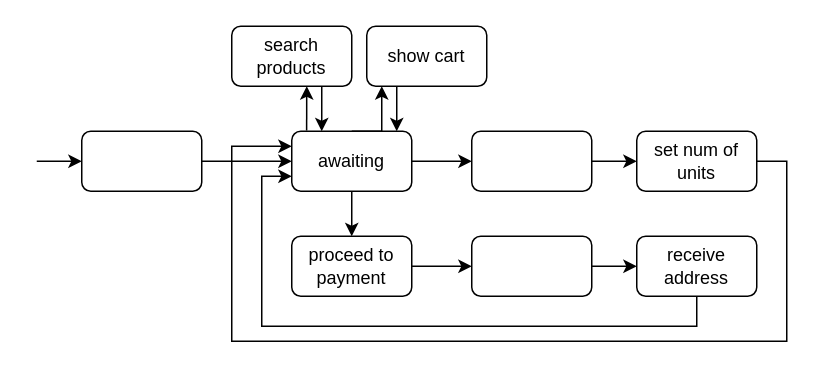
The diagram is 825 pixels wide and 380 high, and some of its shapes have lost their labels. Each missing label, with the centre of its shape:
add product to cart: (x=531, y=160)
initial state: (x=141, y=160)
receive name: (x=531, y=265)
